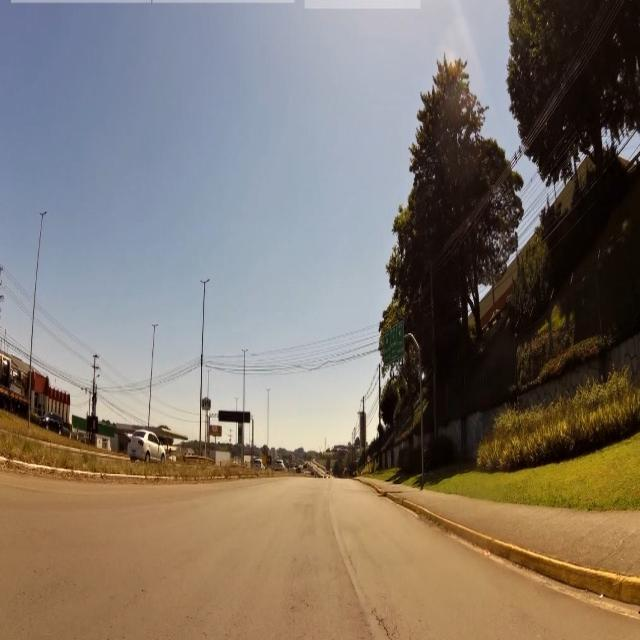I-4: (382, 329, 403, 362)
